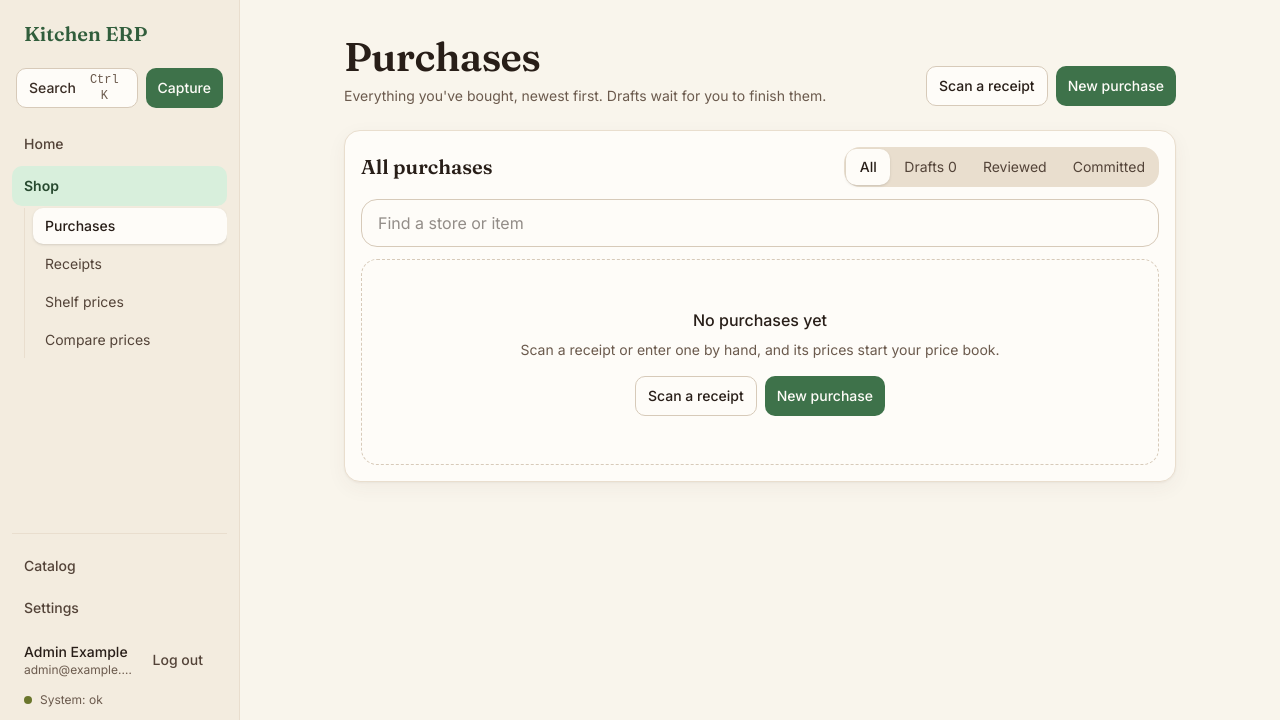
Scenario: purchases: empty states (G11, UI-3.11) › says a filter found nothing, and clears it, rather than claiming there are no purchases
Expected: the element "No purchases yet" is shown, [361, 259, 1159, 465]
Click the button "Drafts 0" at (931, 167), box [892, 149, 969, 185]
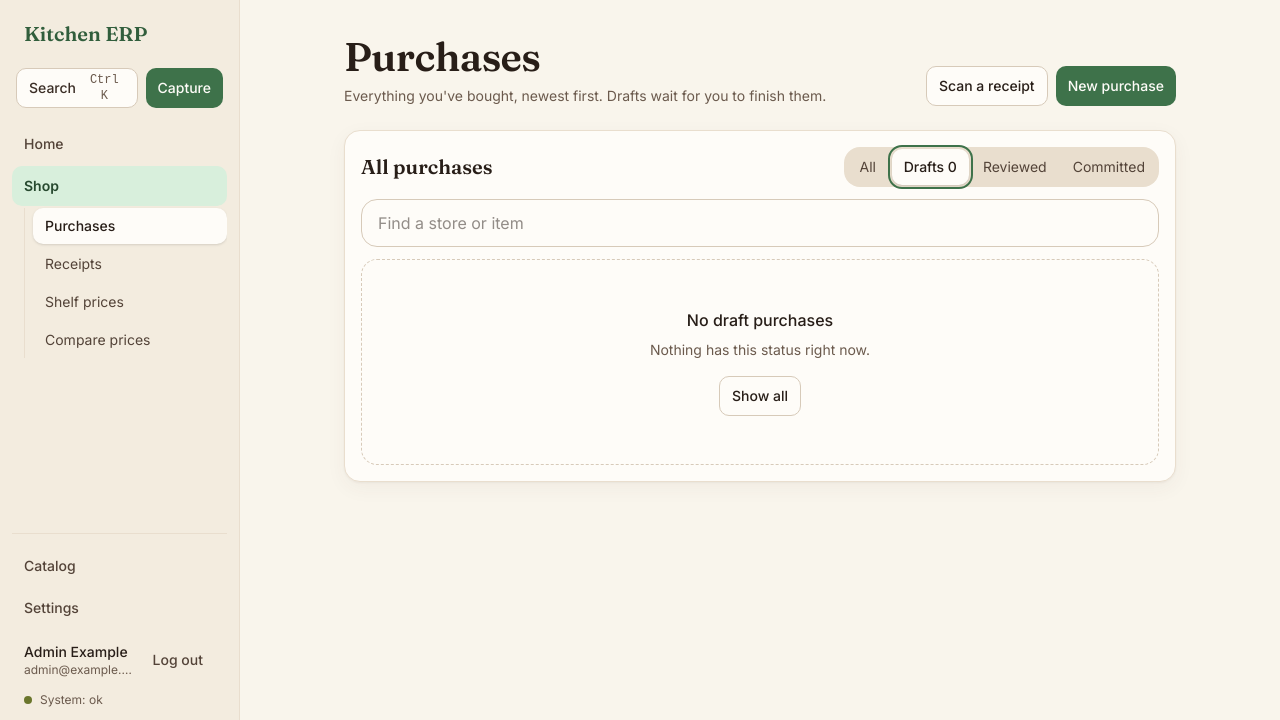
Now the text "No purchases yet" is gone
Click the button "Show all" at (760, 396), box [719, 376, 801, 416]
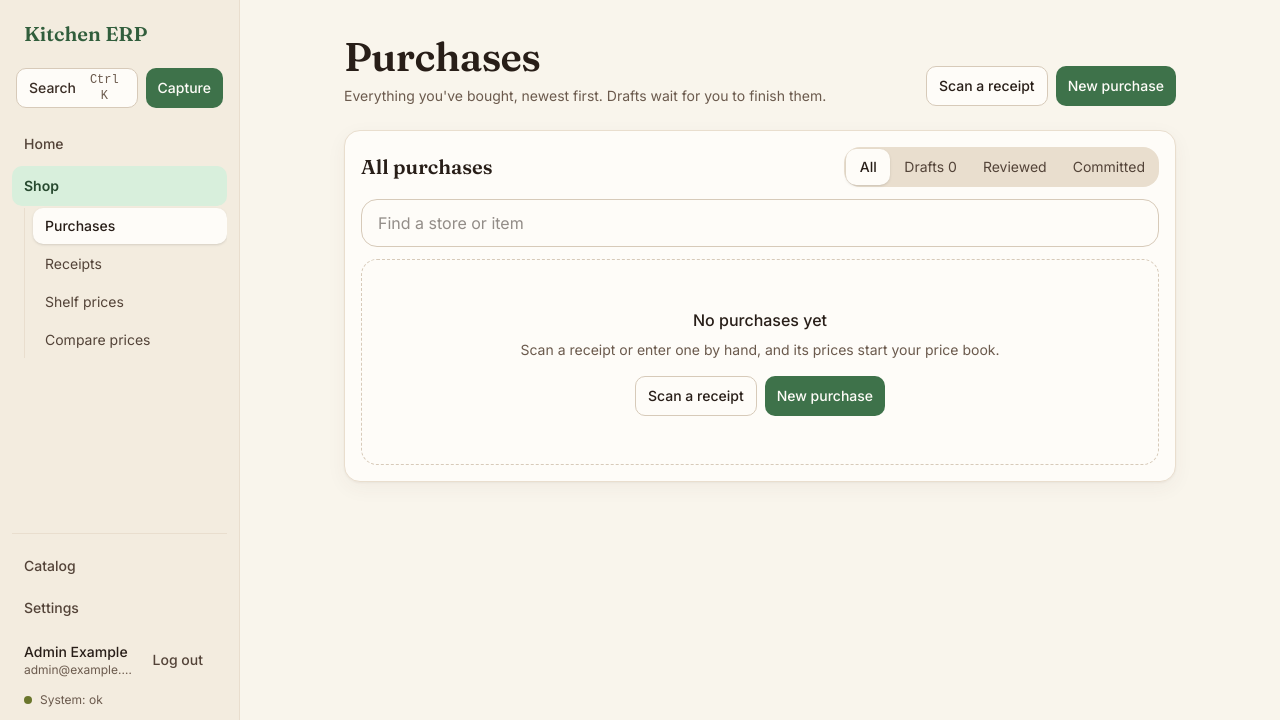
Now the element "No purchases yet" is shown, box [361, 259, 1159, 465]
